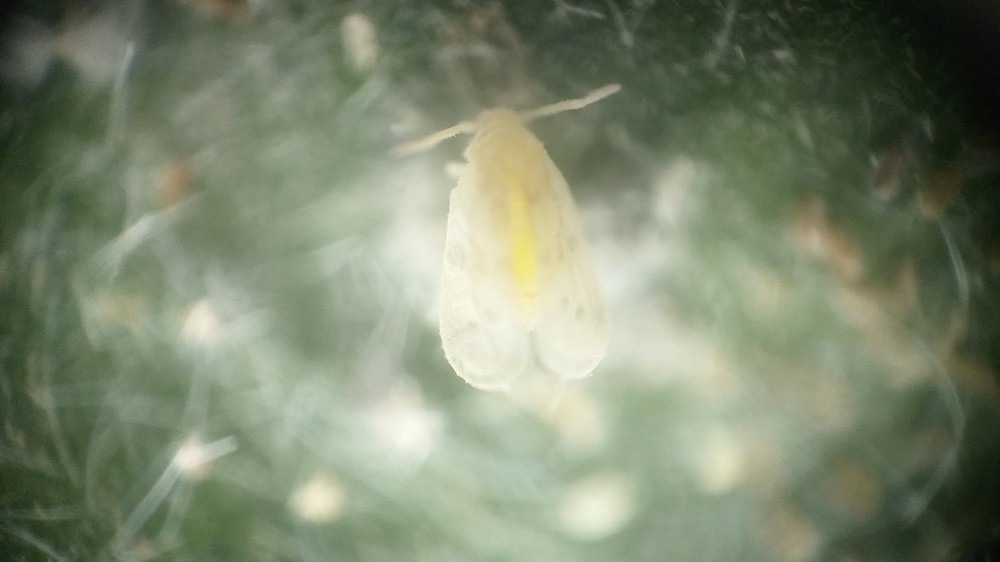Mosca Blanca: (373, 77, 671, 395)
